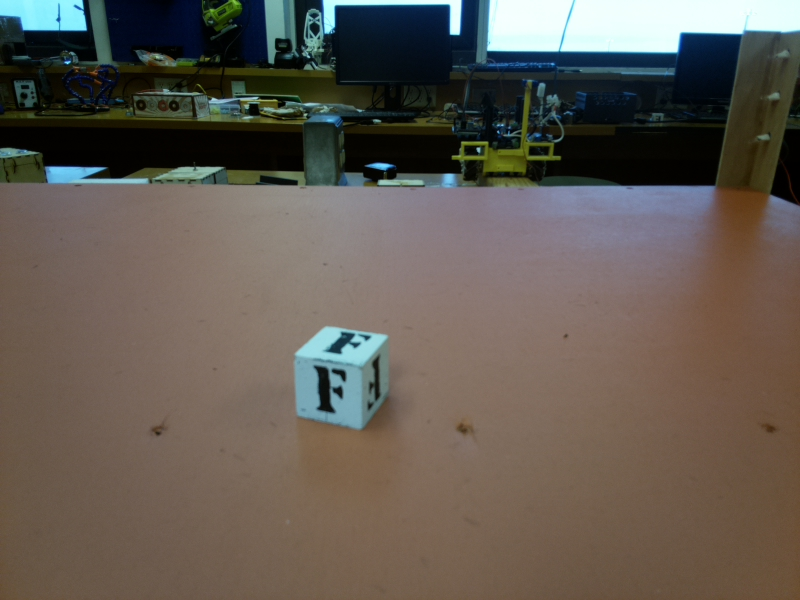blockF: (297, 330, 384, 428)
corner: (738, 35, 788, 193)
